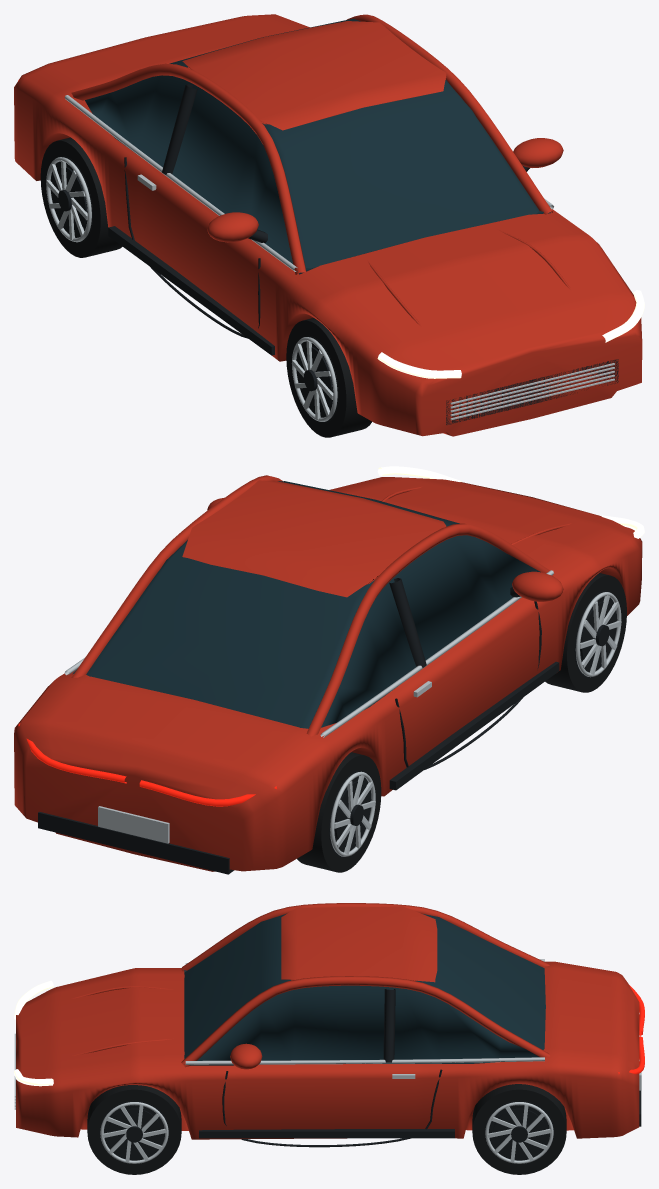
File: fastback.glb
3 renders of one model, top to bottom at view 1: azimuth 30°, elevation 25°; view 2: azimuth 150°, elevation 25°; view 3: azimuth 270°, elevation 25°, orthographic. The views are drawn at different scales.
Visible parts, largest first — view 1: Coachwork, Wheel_FL, Wheel_RL; view 2: Coachwork, Wheel_RL, Wheel_FL; view 3: Coachwork, Wheel_RR, Wheel_FR.
Part boxes in pixels (bbox=[...]): Coachwork: bbox=[14, 14, 644, 436]; Wheel_FL: bbox=[286, 318, 371, 437]; Wheel_RL: bbox=[40, 137, 122, 257]; Coachwork: bbox=[14, 466, 644, 874]; Wheel_RL: bbox=[297, 752, 381, 872]; Wheel_FL: bbox=[545, 573, 626, 692]; Coachwork: bbox=[14, 903, 644, 1147]; Wheel_RR: bbox=[472, 1084, 566, 1174]; Wheel_FR: bbox=[87, 1085, 181, 1174].
Size of the model in its own units: 2.37 by 1.49 by 4.69.
